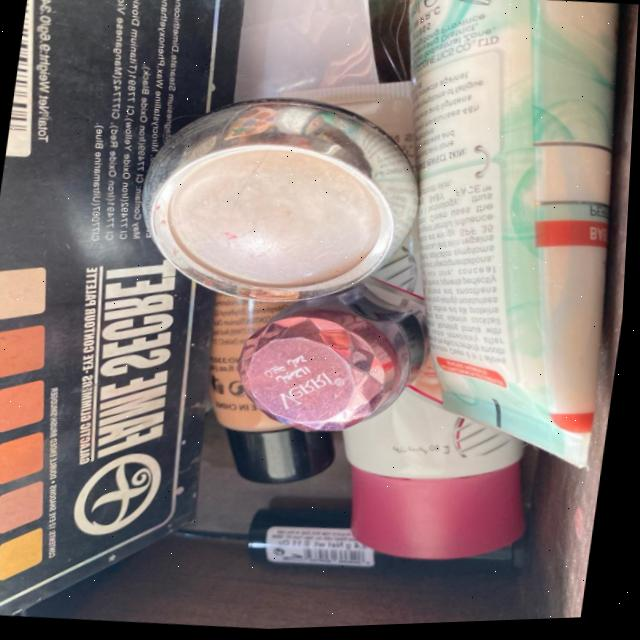bb cream: (343, 0, 640, 483)
eye shade: (0, 0, 248, 630)
lip stick: (241, 493, 539, 621), (217, 311, 419, 439)
powder: (126, 87, 409, 315)
